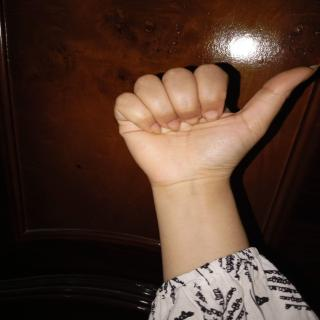DAD: (108, 54, 320, 209)
